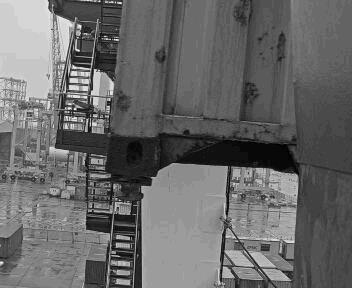twist_lock_1: (152, 139, 176, 160)
